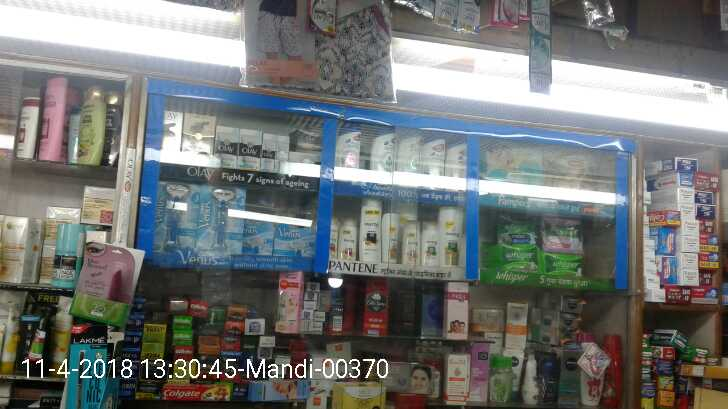venus: (196, 186, 240, 251), (157, 179, 196, 251), (273, 226, 313, 255), (243, 219, 273, 255)
